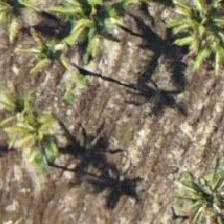coconut_tree: (11, 9, 101, 99), (0, 92, 76, 182), (47, 0, 137, 54), (171, 146, 223, 223), (164, 0, 223, 64), (0, 0, 56, 55)
